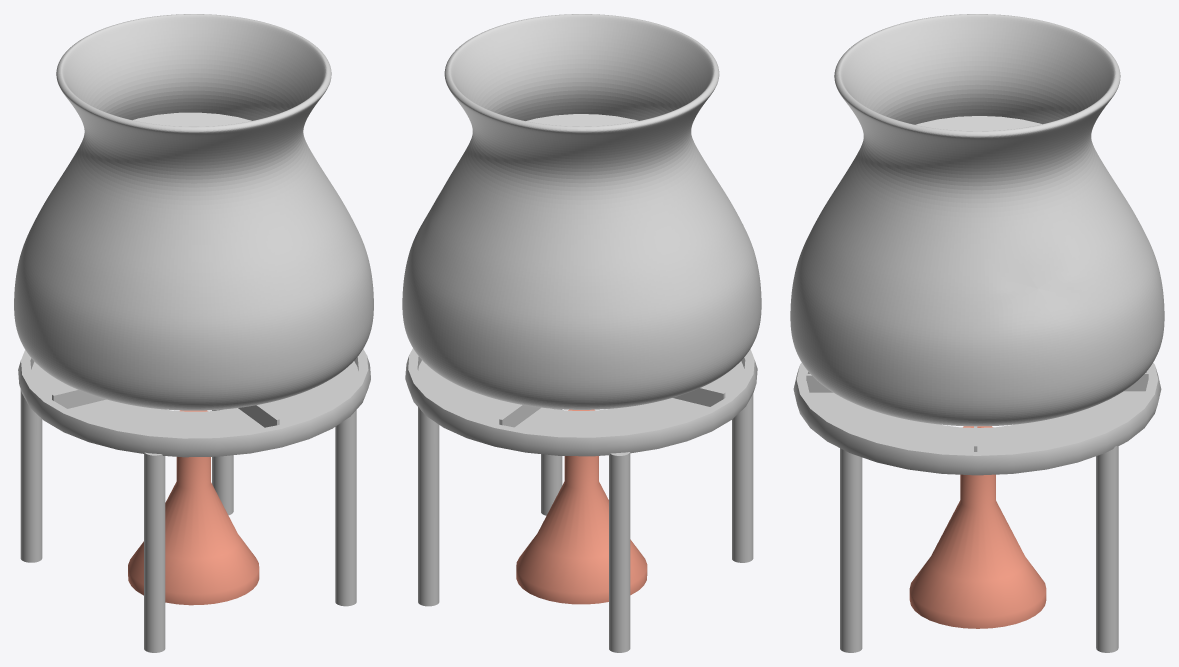
The model's file is smoke.fbx.
3 views of the same model, side by side, from view 1: azimuth 30°, elevation 25°; view 2: azimuth 150°, elevation 25°; view 3: azimuth 270°, elevation 25° (orthographic). The views are drawn at different scales.
Parts seen in each view (by area): view 1: Circle.006, Circle.083; view 2: Circle.006, Circle.083; view 3: Circle.006, Circle.083.
Part boxes in pixels (bbox=[...]): Circle.006: bbox=[14, 14, 373, 652]; Circle.083: bbox=[133, 112, 251, 126]; Circle.006: bbox=[402, 14, 761, 652]; Circle.083: bbox=[526, 114, 638, 126]; Circle.006: bbox=[790, 14, 1164, 652]; Circle.083: bbox=[915, 116, 1041, 131].
Size of the model in its own units: 48.72 by 76.02 by 48.72.
